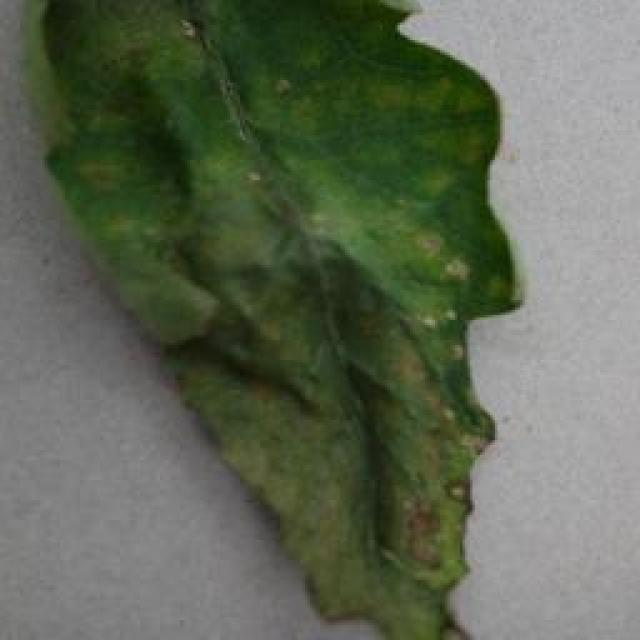Tomato Late Blight: (215, 42, 522, 638)
